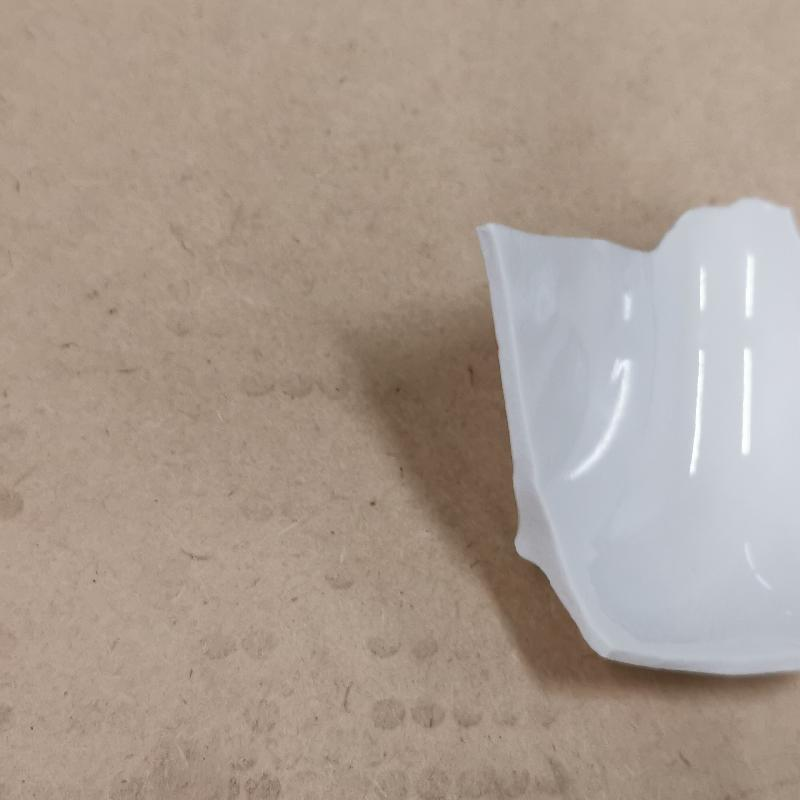ceram: (459, 190, 800, 683)
